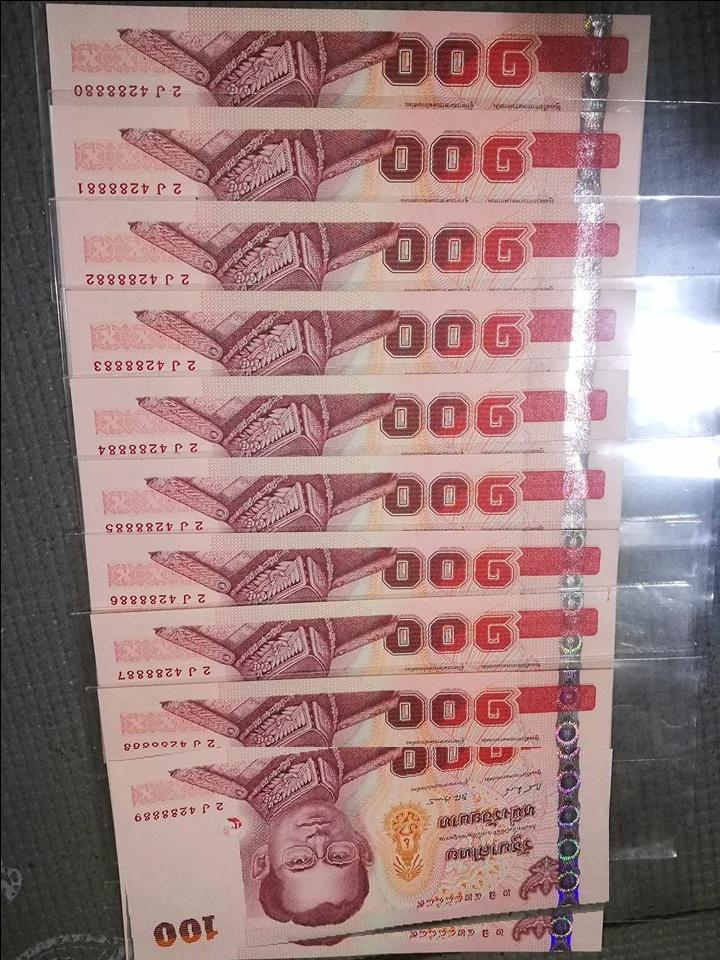100BahtTai: (120, 747, 610, 960)
